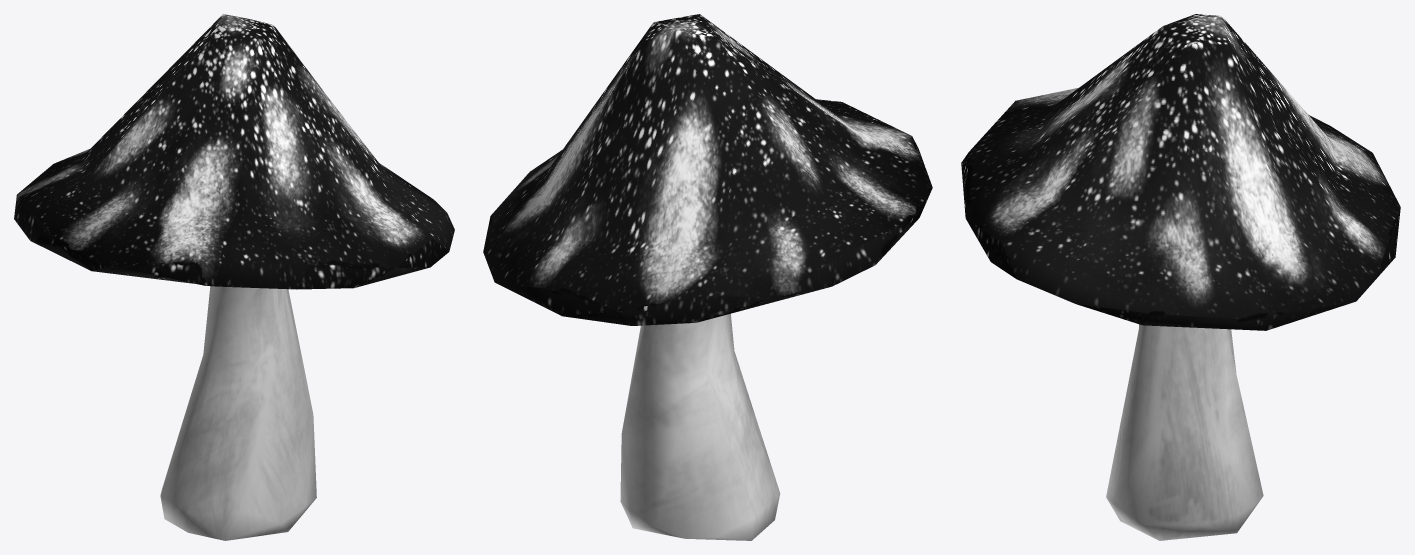
File: NormalMushroom.fbx
3 renders of one model, left to right at view 1: azimuth 30°, elevation 25°; view 2: azimuth 150°, elevation 25°; view 3: azimuth 270°, elevation 25°, orthographic. The views are drawn at different scales.
Visible parts, largest first — view 1: Cube.003; view 2: Cube.003; view 3: Cube.003.
Boxes of the visible parts, x1,y1,x2,y2 form: Cube.003: (14,14,454,540); Cube.003: (483,14,932,540); Cube.003: (961,14,1400,540).
Bounding box in the file's own units: 591 × 745 × 591.
